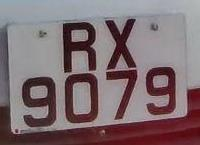0: (59, 69, 106, 128)
7: (101, 65, 146, 125)
9: (14, 70, 59, 133), (140, 61, 184, 122)
R: (55, 15, 105, 77)
X: (101, 14, 146, 73)
